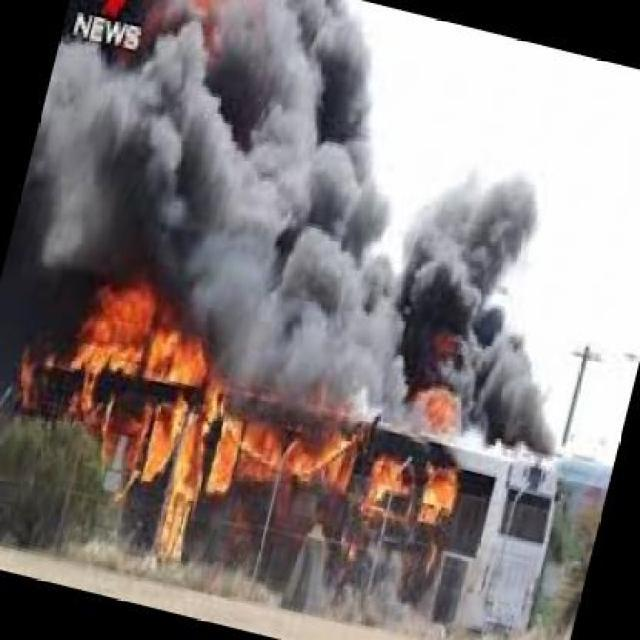Fire: (21, 278, 226, 560), (225, 392, 460, 527)
Smoke: (58, 6, 410, 274), (239, 202, 592, 380)
